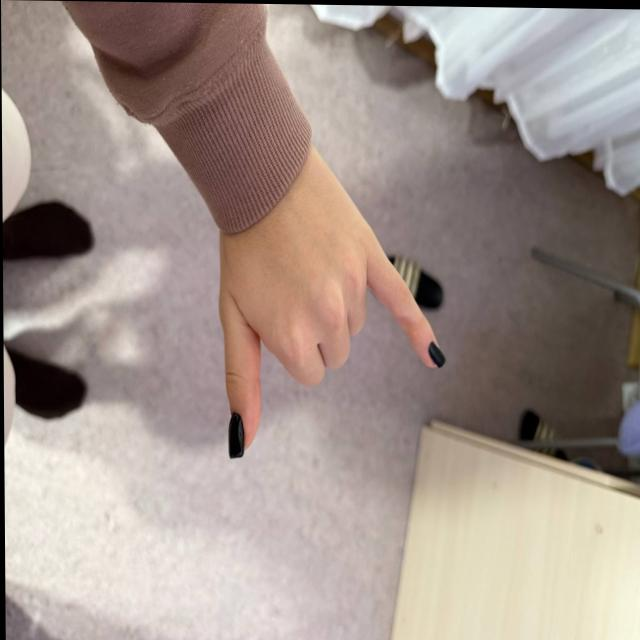u: (206, 160, 483, 461)
